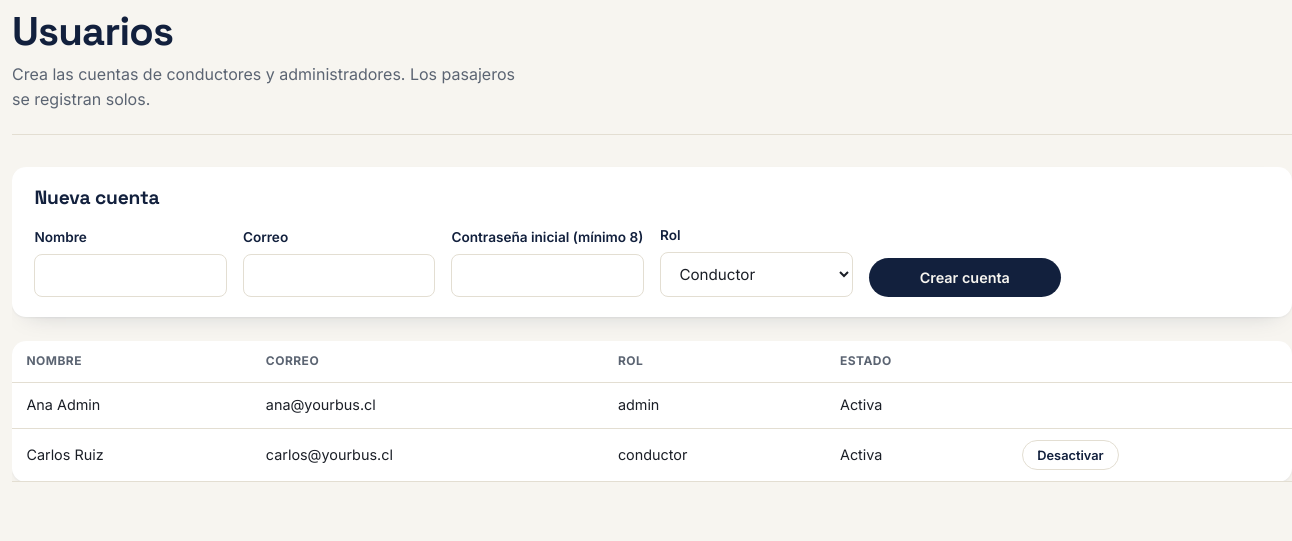
AdminUsuarios › crea un conductor
Check: the text "carlos@yourbus.cl" is shown, box [251,428,604,482]
Type "Marta Soto" into the field labelled "Nombre". click: (131, 276)
box: [34,254,227,297]
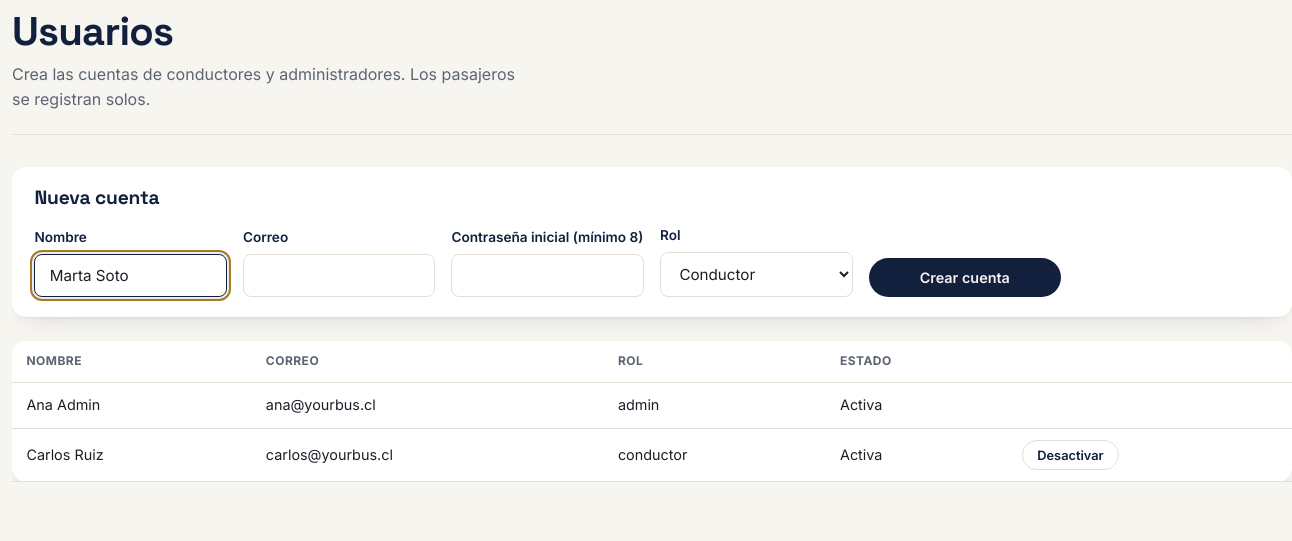
Type "marta@yourbus.cl" into the field labelled "Correo". click: (339, 276)
box: [243,254,435,297]
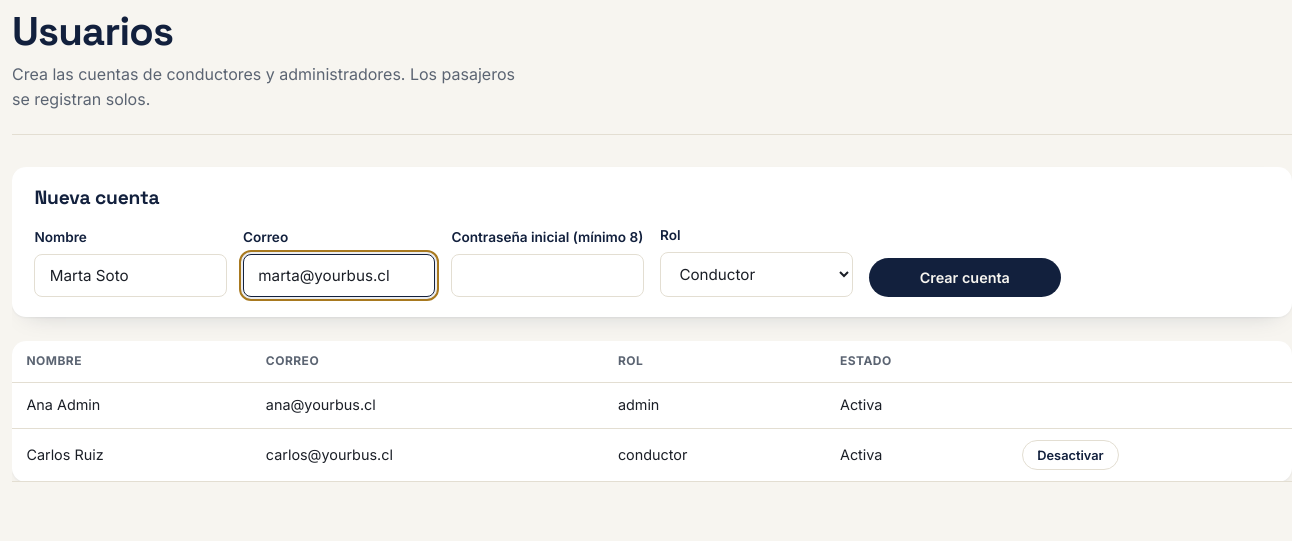
Type "clave-conductora-1" into the password field labelled "Contraseña inicial (mínimo 8)". click: (548, 276)
box: [452,254,644,297]
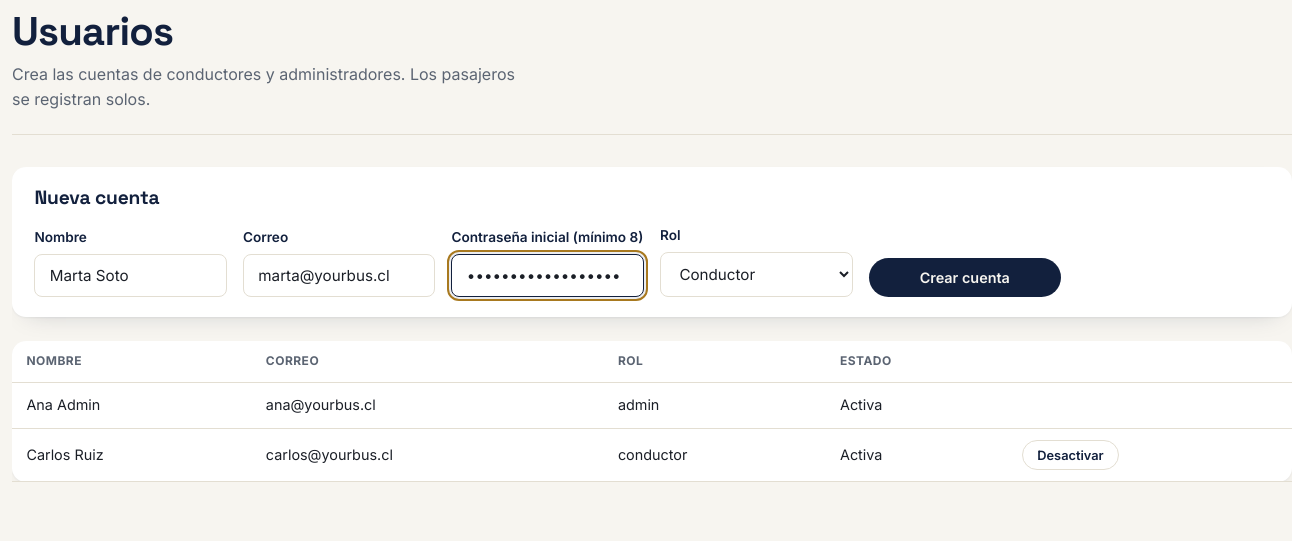
Click the button "Crear cuenta". click: (965, 278)
box: [868,258,1061,297]
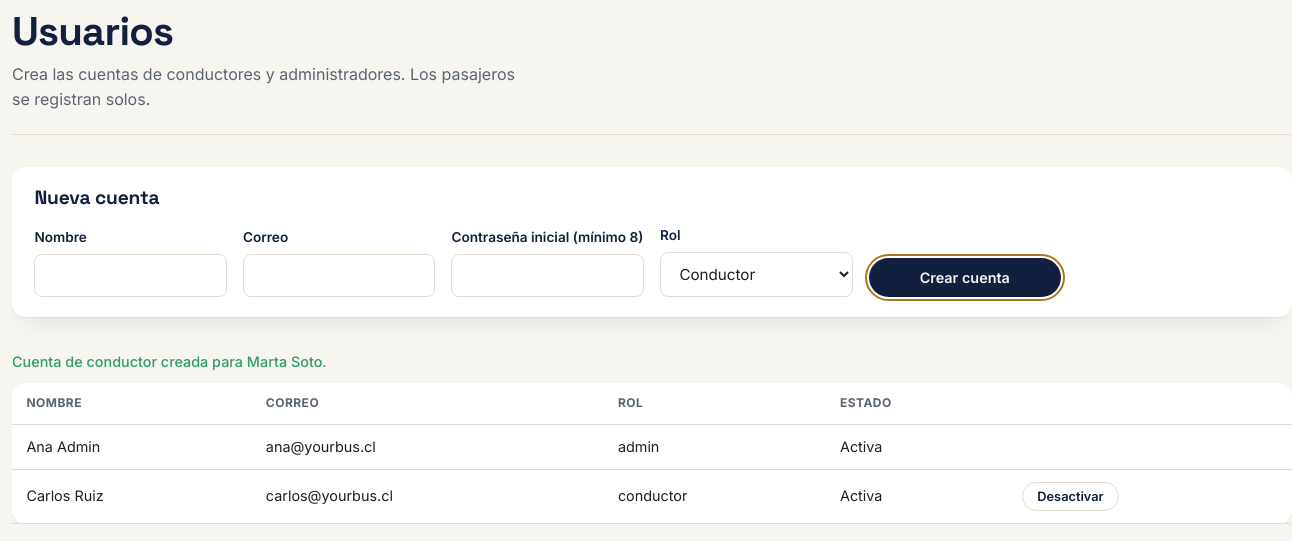
Check: the message reads "Cuenta de conductor creada para Marta Soto.", box [12,353,327,370]
